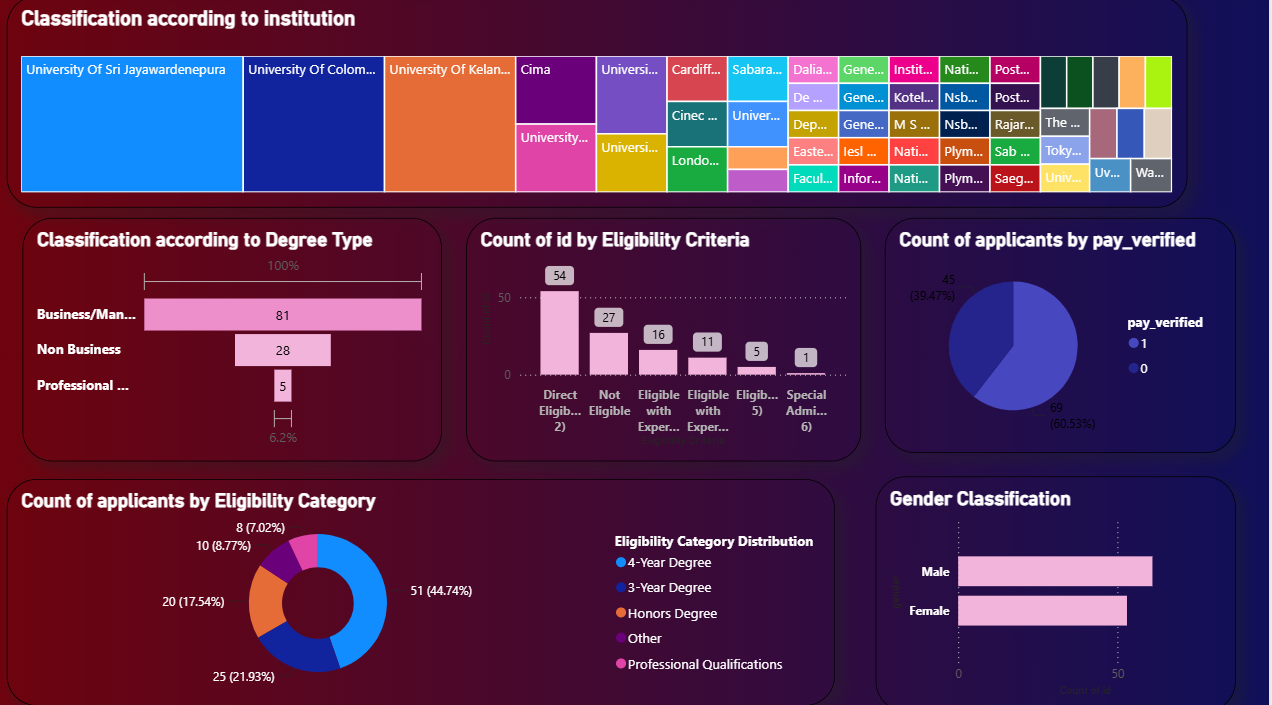

Layout of this report page (visuals, bound fields, positions):
{"tool":"powerbi","page":{"name":"Page 2","canvas":[1280,720],"ordinal":1},"visuals":[{"type":"treemap","title":"Classification according to institution","fields":{"Group":["Applicant Dataset for Visualization.Institute 1","Applicant Dataset for Visualization.Institute 2","Applicant Dataset for Visualization.Institute 3","Applicant Dataset for Visualization.Institute 4"],"Values":["Count(Applicant Dataset for Visualization.id)"]},"box":[15.7,0,1181.4,211.4],"z":0},{"type":"donutChart","title":"Count of applicants by Eligibility Category","fields":{"Category":["Applicant Dataset for Visualization.Eligibility Category(Q1)","Applicant Dataset for Visualization.Eligibility Category(Q2)","Applicant Dataset for Visualization.Eligibility Category(Q3)","Applicant Dataset for Visualization.Eligibility Category(Q4)"],"Y":["Count(Applicant Dataset for Visualization.id)"]},"box":[15.8,483.4,828.8,227.3],"z":1000},{"type":"barChart","title":"Gender Classification","fields":{"Category":["Applicant Dataset for Visualization.gender"],"Y":["CountNonNull(Applicant Dataset for Visualization.id)"]},"box":[885.2,480.8,360.1,235.1],"z":2000},{"type":"lineStackedColumnComboChart","fields":{"Category":["Applicant Dataset for Visualization.Eligibility Criteria"],"Y":["Count(Applicant Dataset for Visualization.id)"]},"box":[475.3,222,395.7,243.7],"z":3000},{"type":"pieChart","title":"Count of applicants by pay_verified","fields":{"Category":["Applicant Dataset for Visualization.pay_verified"],"Y":["Count(Applicant Dataset for Visualization.id)"]},"box":[894,222,351.1,235.3],"z":4000},{"type":"funnel","title":"Classification according to Degree Type","fields":{"Category":["Applicant Dataset for Visualization.Classification 1","Applicant Dataset for Visualization.Classification 2","Applicant Dataset for Visualization.Classification 3","Applicant Dataset for Visualization.Classification 4"],"Y":["Count(Applicant Dataset for Visualization.id)"]},"box":[31.4,222,419.8,243.7],"z":5000}]}

Visuals, with their boxes in screenshot pixels (x1, y1, x2, y2), scaled from the page's 1280x720 canvas onto the 1272x705 screenshot:
"Classification according to institution" treemap: crop(16, 0, 1190, 207)
"Count of applicants by Eligibility Category" donutChart: crop(16, 473, 839, 696)
"Gender Classification" barChart: crop(880, 471, 1238, 701)
lineStackedColumnComboChart - Applicant Dataset for Visualization.Eligibility Criteria x Count(Applicant Dataset for Visualization.id): crop(472, 217, 866, 456)
"Count of applicants by pay_verified" pieChart: crop(888, 217, 1237, 448)
"Classification according to Degree Type" funnel: crop(31, 217, 448, 456)
